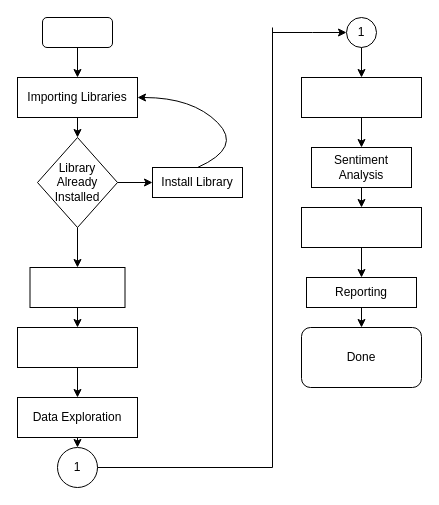
This 439x505 diagram has some shape labels left out. Here are the shapes that lost their labels. From the top down, the centre of each, then its label:
the point at 77,32: START
the point at 361,97: Tokenization
the point at 361,227: Data Visualization
the point at 77,287: Data Loading
the point at 77,347: Data Cleansing/Data Wrangling
